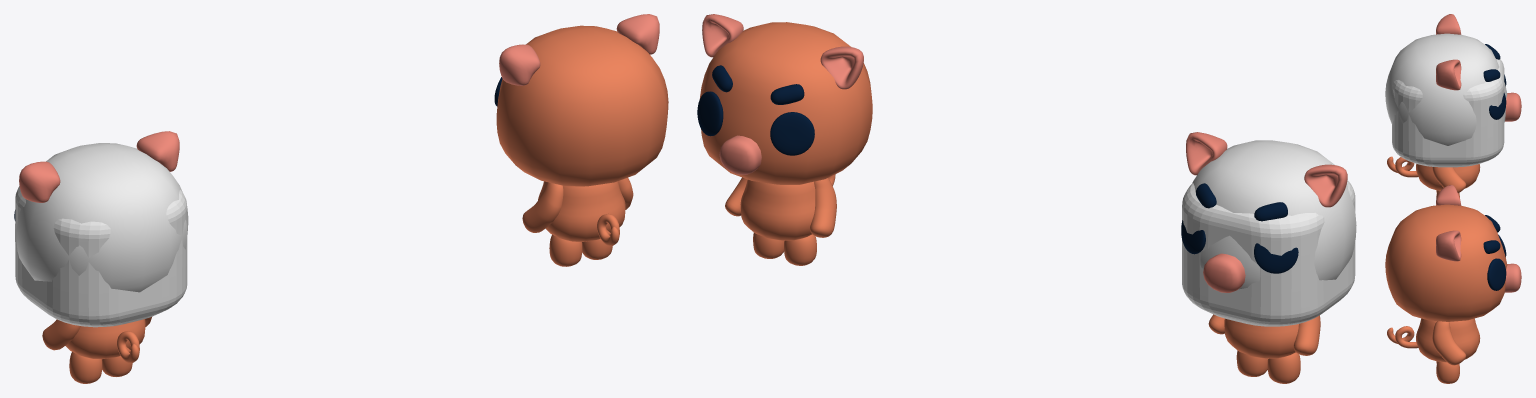
Rendered from Piggy Character.fbx.
The picture shows the model from 3 angles, left to right: view 1: azimuth 30°, elevation 25°; view 2: azimuth 150°, elevation 25°; view 3: azimuth 270°, elevation 25°; orthographic projection. The views are drawn at different scales.
Visible parts, largest first — view 1: Cube.017, Cube.001, Cube, Cube.007, Cube.002, Cube.004, Cube.006, BezierCurve; view 2: Cube.017, Cube, Cube.001, Cube.007, Cube.002, Cylinder, Cube.008, Cube.009, Cube.004, Cube.006, Cube.003; view 3: Cube.017, Cube.001, Cube, Cube.007, Cube.002, Cube.005, Cube.008, BezierCurve, Cylinder, Cube.009.
Boxes of the visible parts, <box> form: Cube.017: <box>494,14,668,266</box>; Cube.001: <box>16,143,188,292</box>; Cube: <box>15,186,187,327</box>; Cube.007: <box>19,131,179,202</box>; Cube.002: <box>65,319,145,359</box>; Cube.004: <box>69,352,102,383</box>; Cube.006: <box>42,319,80,350</box>; BezierCurve: <box>117,331,139,363</box>; Cube.017: <box>697,14,872,265</box>; Cube: <box>1182,180,1355,326</box>; Cube.001: <box>1192,140,1356,289</box>; Cube.007: <box>1186,132,1347,207</box>; Cube.002: <box>1224,318,1298,358</box>; Cylinder: <box>1181,220,1298,273</box>; Cube.008: <box>1203,253,1245,292</box>; Cube.009: <box>1196,183,1287,221</box>; Cube.004: <box>1267,352,1300,383</box>; Cube.006: <box>1293,315,1320,355</box>; Cube.003: <box>1236,350,1267,376</box>; Cube.017: <box>1385,185,1521,383</box>; Cube.001: <box>1385,33,1507,145</box>; Cube: <box>1392,59,1504,167</box>; Cube.007: <box>1436,14,1461,90</box>; Cube.002: <box>1416,164,1480,190</box>; Cube.005: <box>1432,167,1466,193</box>; Cube.008: <box>1505,92,1521,121</box>; BezierCurve: <box>1387,156,1418,177</box>; Cylinder: <box>1489,74,1506,119</box>; Cube.009: <box>1483,44,1500,81</box>.
Bounding box in the file's own units: 955 × 326 × 242.
